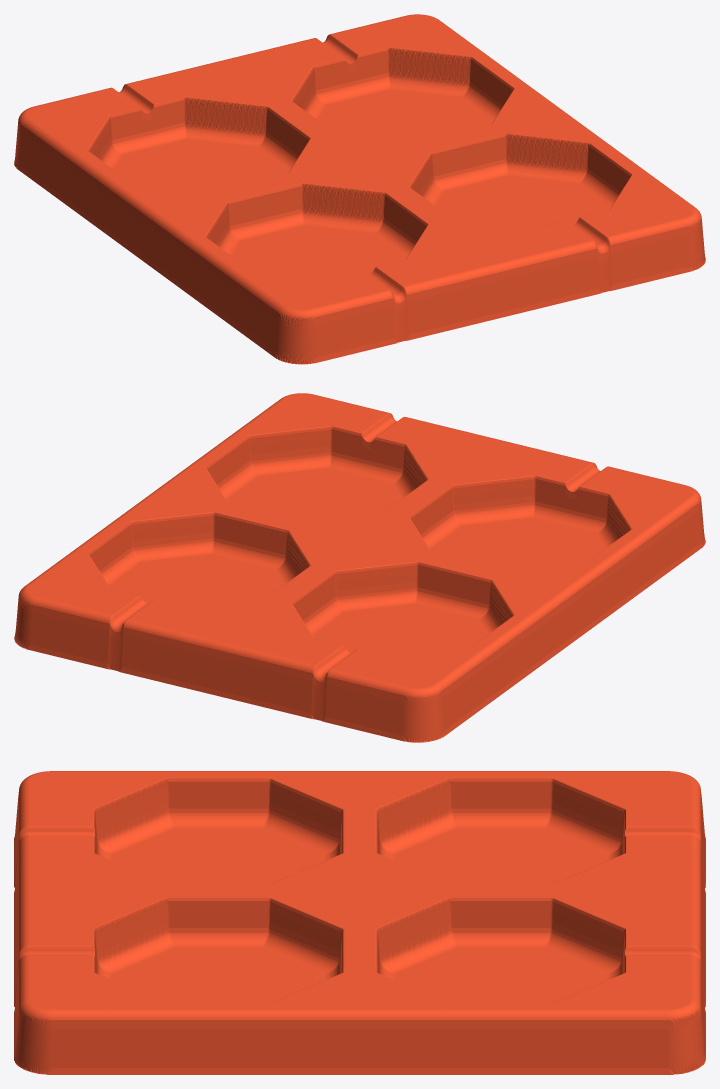
The model's file is mold.glb.
3 renders of one model, top to bottom at view 1: azimuth 30°, elevation 25°; view 2: azimuth 150°, elevation 25°; view 3: azimuth 270°, elevation 25°, orthographic. The views are drawn at different scales.
Parts seen in each view (by area): view 1: geometry_0; view 2: geometry_0; view 3: geometry_0.
Boxes of the visible parts, x1,y1,x2,y2 form: geometry_0: (14, 14, 705, 364); geometry_0: (14, 393, 705, 742); geometry_0: (14, 771, 705, 1074).
Bounding box in the file's own units: 0.1405 × 0.0155 × 0.1643.
